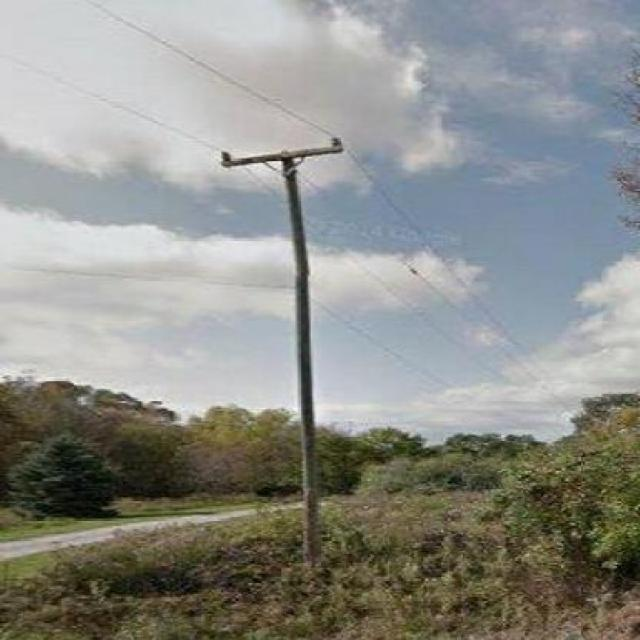pole: (212, 126, 363, 531)
